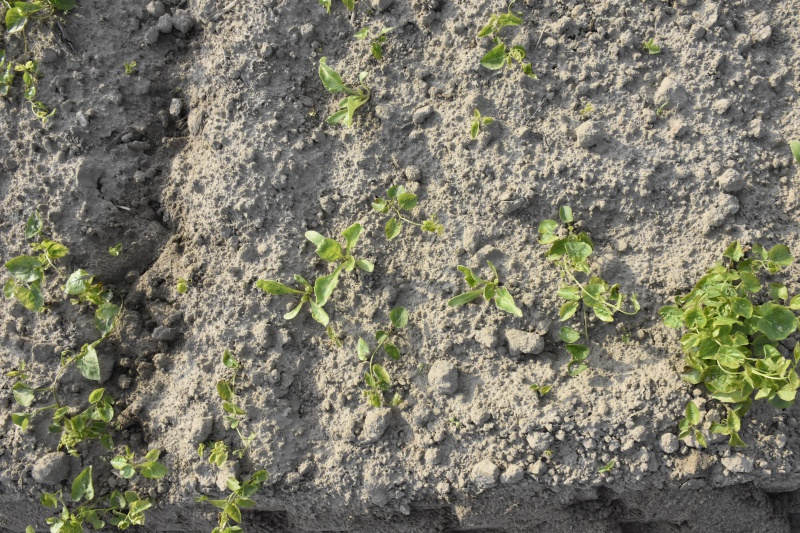field bindweed: (662, 239, 800, 445), (537, 212, 638, 378), (360, 309, 411, 409)
sugar beet: (305, 225, 375, 310), (444, 259, 524, 319), (257, 274, 334, 328), (317, 60, 371, 134)
